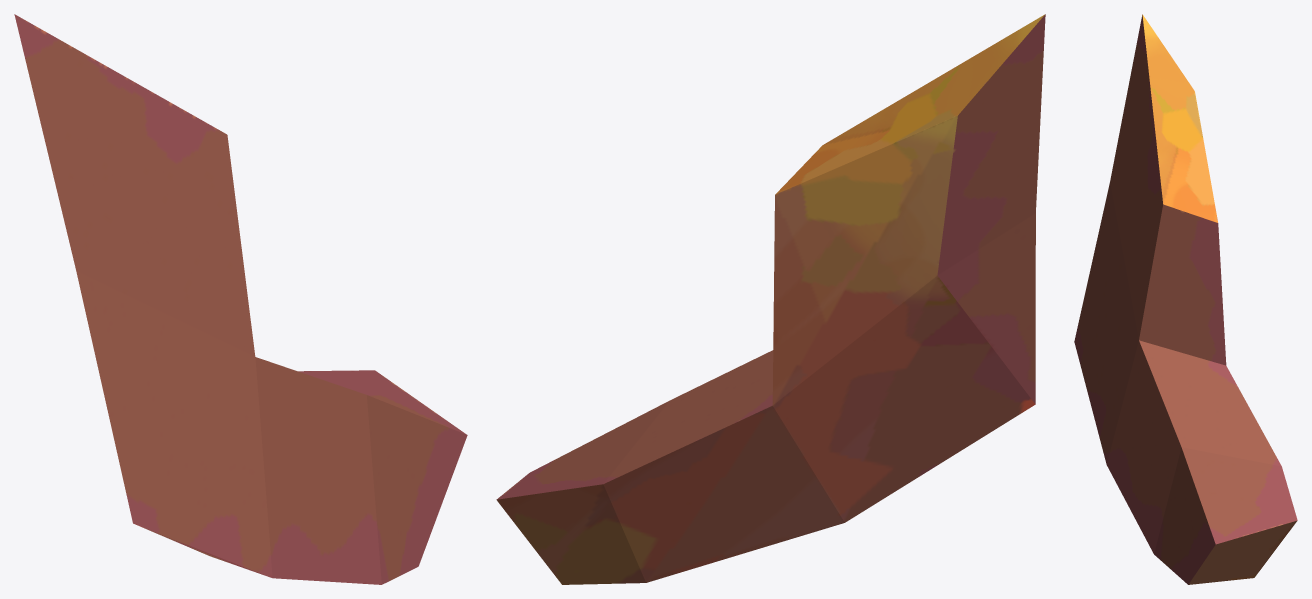
File: Grips3_001Broken.fbx
3 views of the same model, side by side, from view 1: azimuth 30°, elevation 25°; view 2: azimuth 150°, elevation 25°; view 3: azimuth 270°, elevation 25° (orthographic). The views are drawn at different scales.
Parts seen in each view (by area): view 1: Grips3_001Broken; view 2: Grips3_001Broken; view 3: Grips3_001Broken.
Part boxes in pixels (bbox=[...]): Grips3_001Broken: bbox=[14, 14, 467, 584]; Grips3_001Broken: bbox=[496, 14, 1045, 584]; Grips3_001Broken: bbox=[1074, 14, 1297, 584].
Bounding box in the file's own units: 1.11 × 1.85 × 2.38.
Materials: 1 (1 with a texture image).
